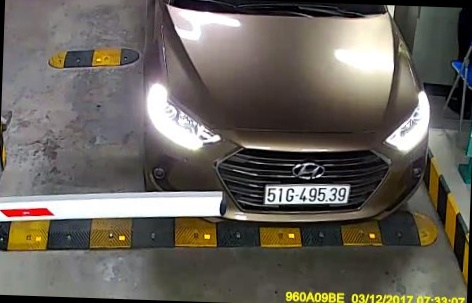plate: (259, 170, 352, 212)
